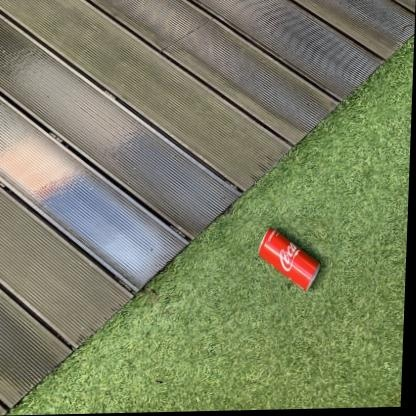trash: (258, 228, 319, 290)
